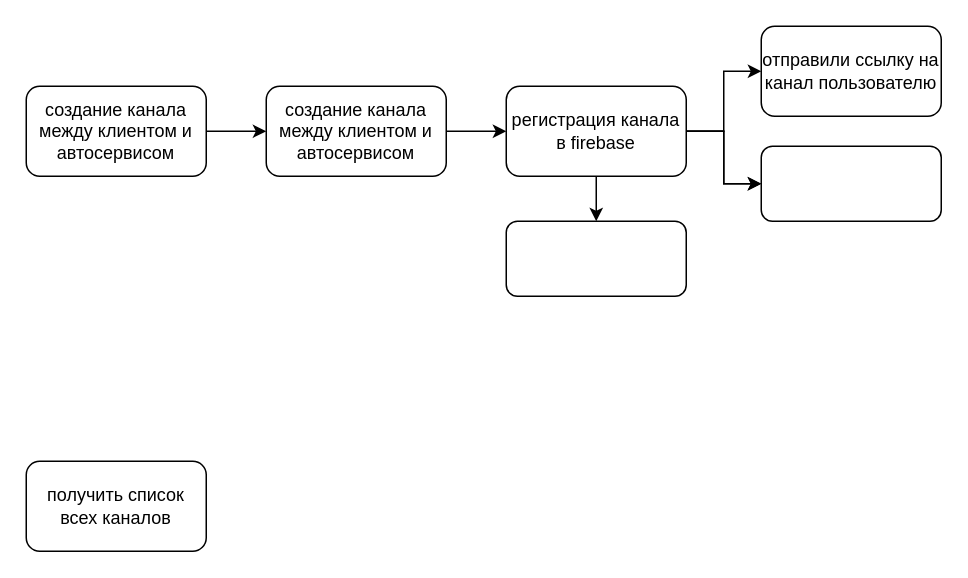
Image size: 968x578. Some labels were removed from this diagram. The box of each missing label's shape, as (x1, y1, x2, y2) in pixels:
subsribe update my channel: (505, 220, 686, 296)
переписка one to one: (760, 145, 941, 221)
